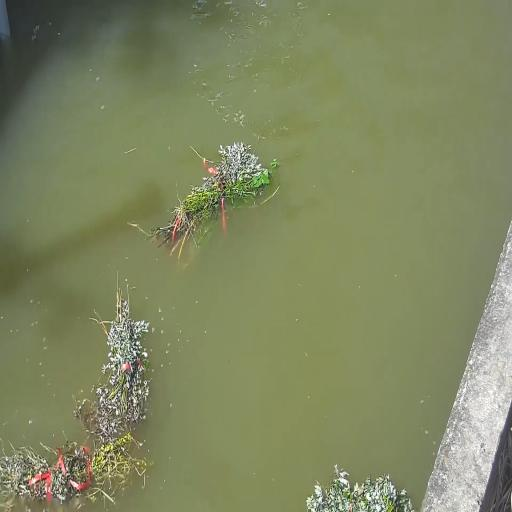twig: (134, 140, 277, 258), (0, 426, 149, 507), (82, 276, 152, 443), (307, 461, 412, 511)
